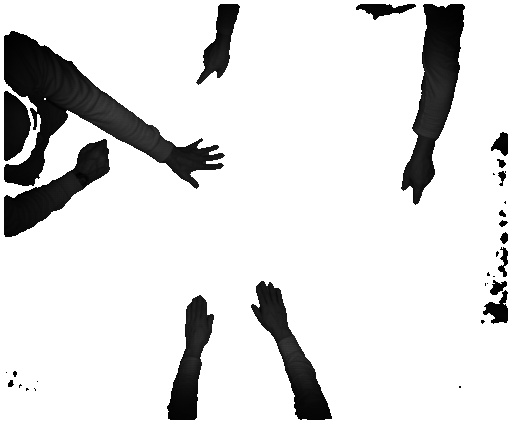fist: (73, 140, 117, 184)
hand: (175, 139, 231, 191), (248, 282, 295, 336), (400, 154, 439, 207), (192, 43, 231, 87), (184, 296, 215, 350)
